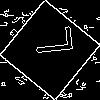L: (25, 25, 73, 57)
